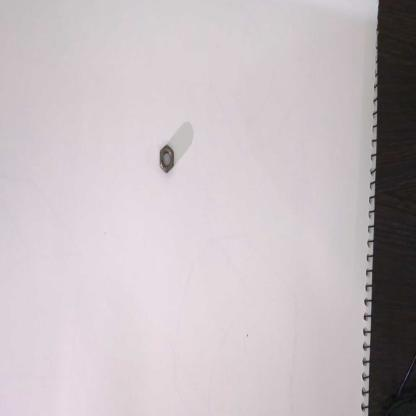NUTS: (156, 142, 177, 175)
